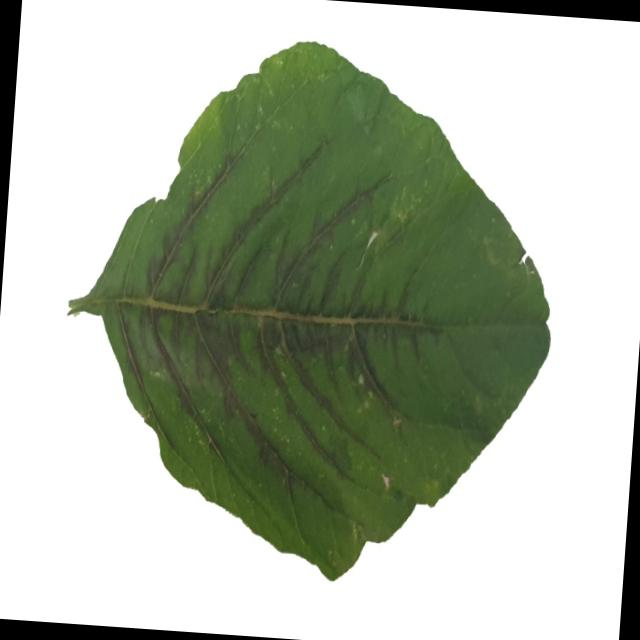Medicinal-Arive Dantu: (52, 19, 571, 598)
